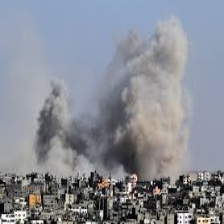smoke: (32, 29, 183, 175)
